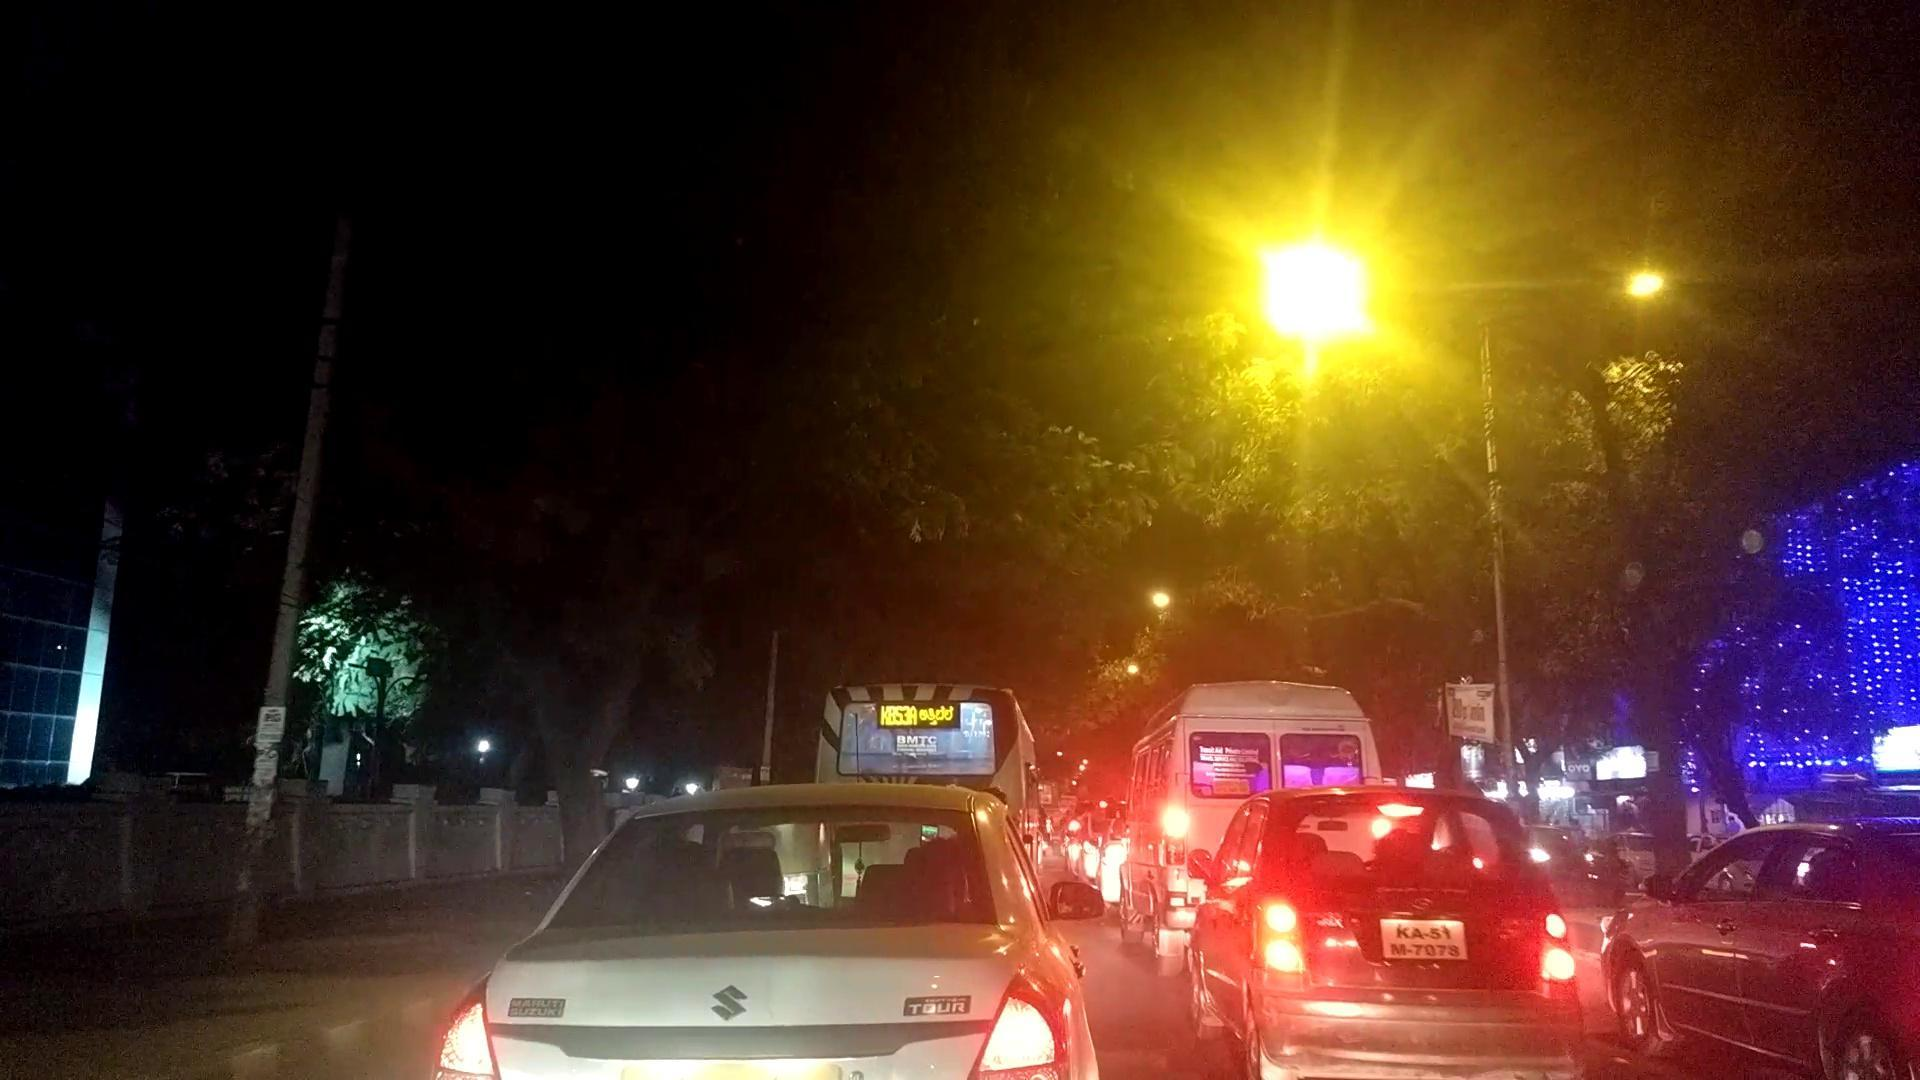on: (11, 12, 1920, 1080)
